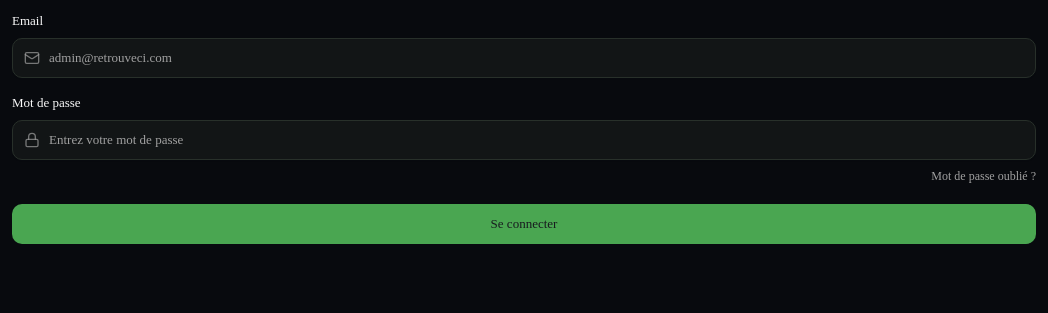
Test case: LoginForm › reports the schema messages on an empty submit without calling the API
Click the button "Se connecter".
click(524, 224)  # box [12,204,1036,244]
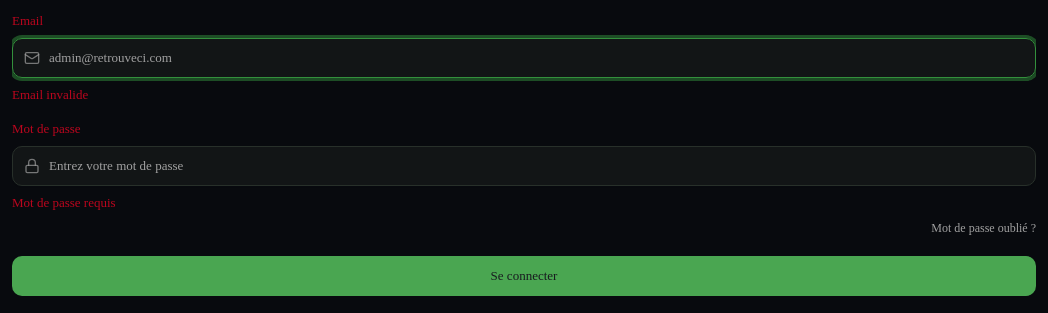
Expected: the text "Email invalide" is shown, [12,87,88,102]
Expected: the text "Mot de passe requis" is shown, [12,195,116,210]
